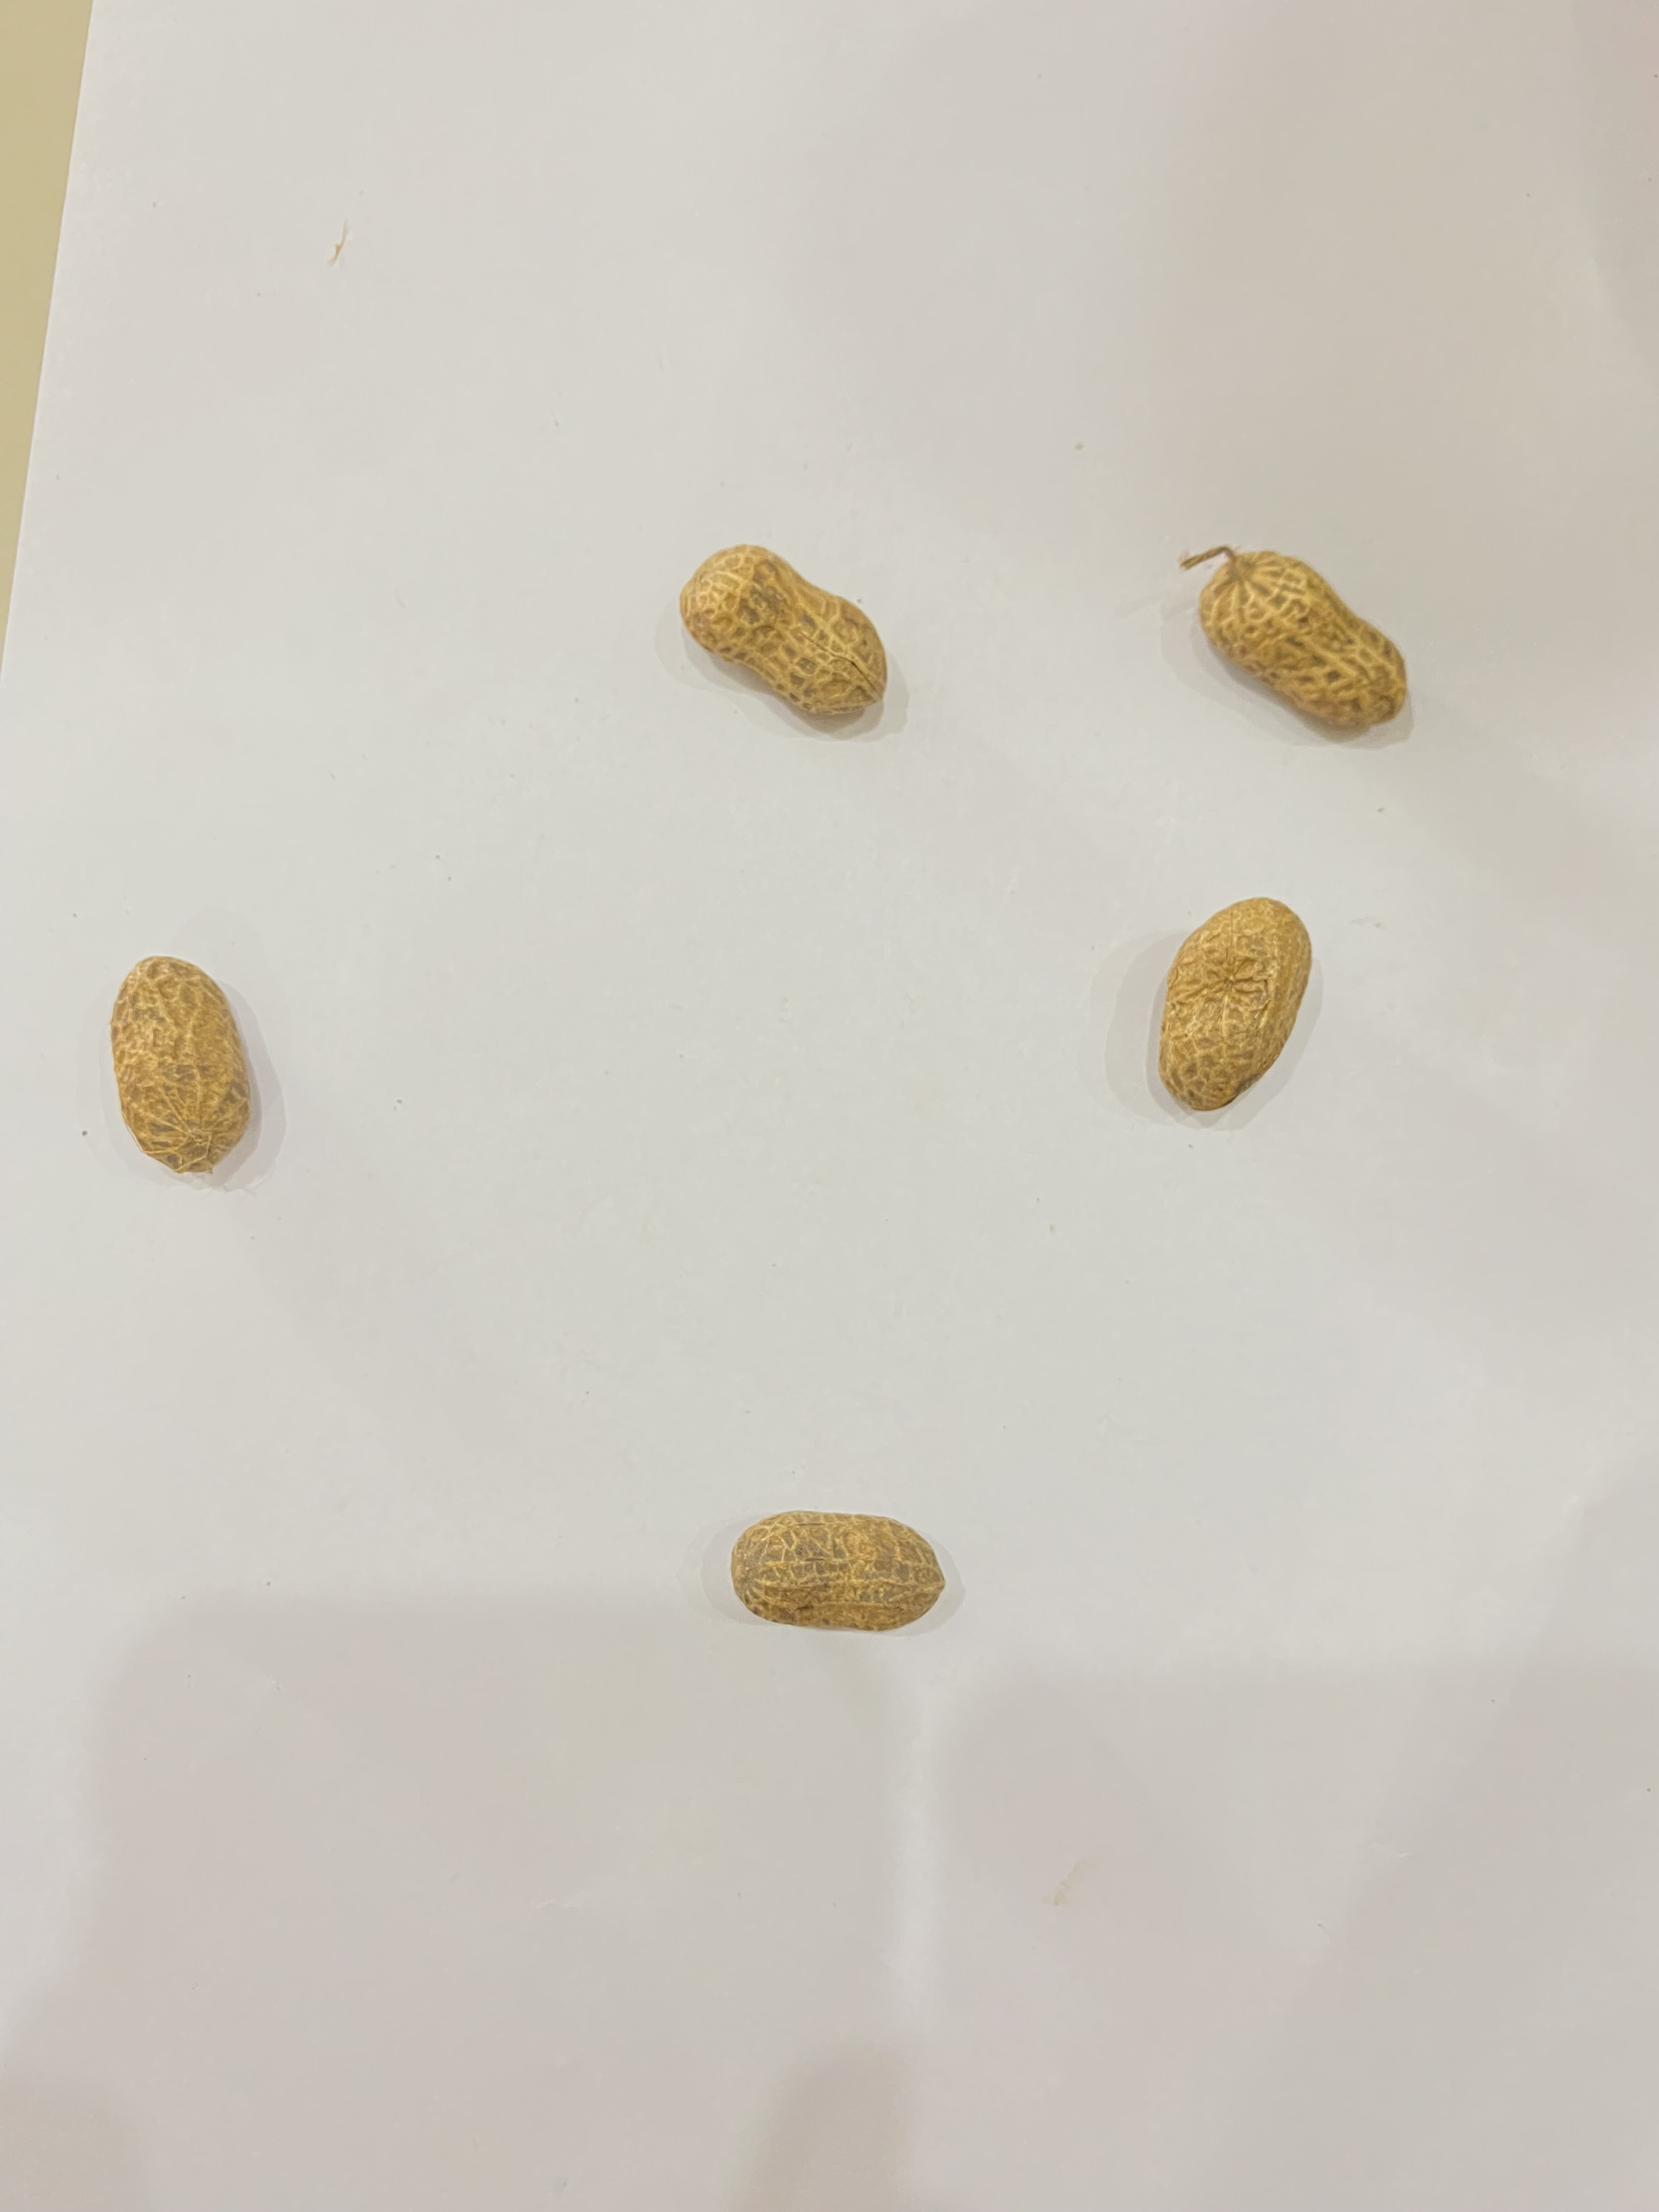kacang1: (657, 512, 896, 749), (87, 942, 303, 1188), (1201, 514, 1424, 751), (1143, 887, 1324, 1123), (725, 1500, 962, 1641)
